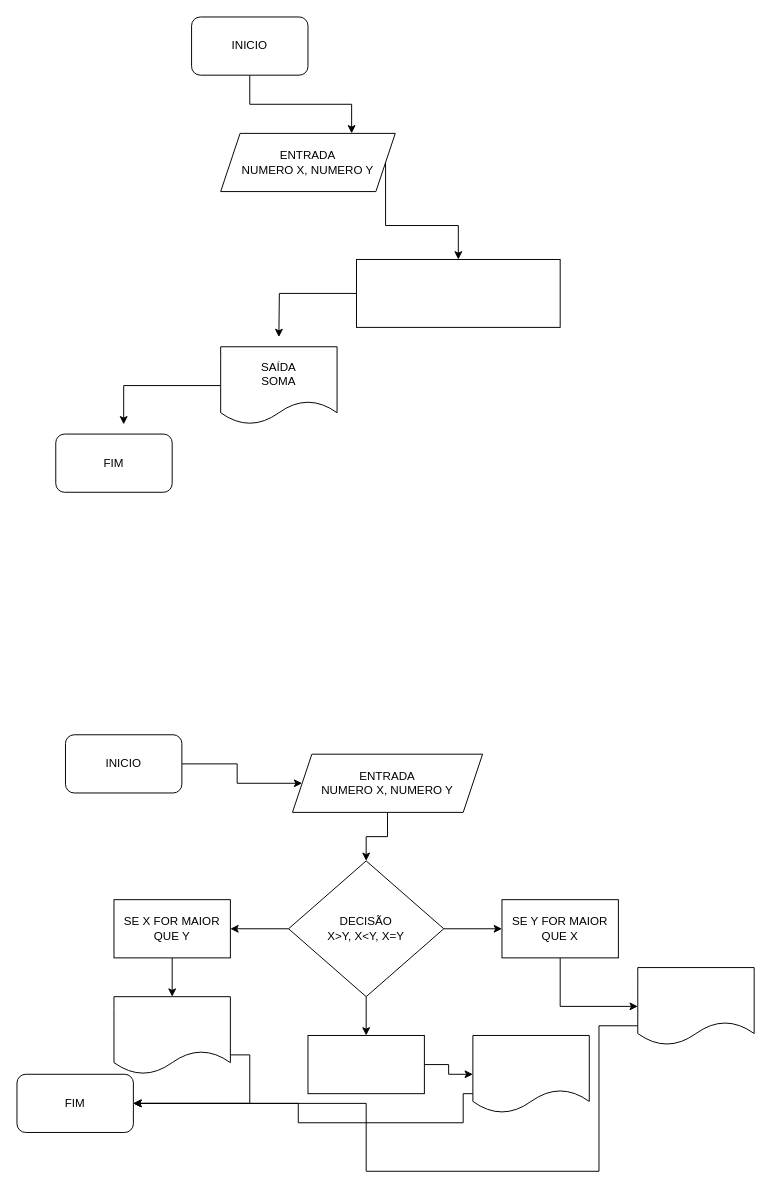
The diagram is 771 pixels wide and 1196 high, and some of its shapes have lost their labels. Each missing label, with the centre of its shape:
"MOSTRAR IGUAIS" belongs at [530,1074].
"MOSTRAR X" belongs at [171,1035].
"MOSTRAR Y" belongs at [695,1006].
"PROCESSAMENTO SOMA = NUMERO X + NUMERO Y" belongs at [458,293].
"SE X E Y FOREM IGUAIS" belongs at [365,1064].
